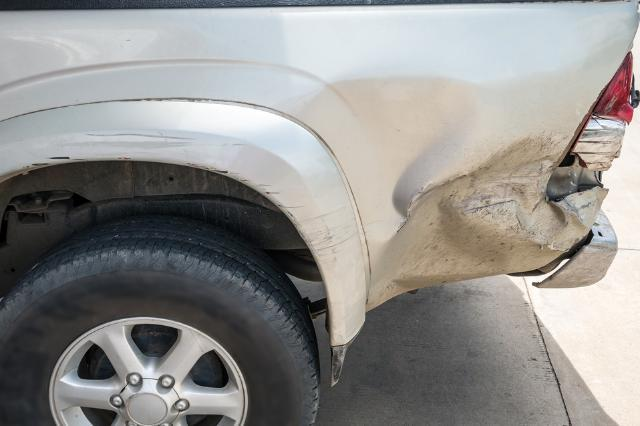Fender: (314, 80, 607, 286)
Light: (557, 52, 640, 187)
